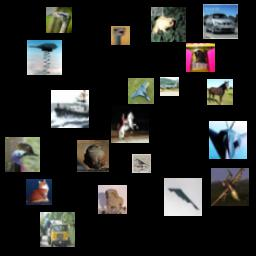airplane: (209, 121, 247, 159), (164, 178, 202, 216), (211, 168, 249, 206), (27, 40, 62, 75), (128, 78, 154, 104), (160, 77, 179, 96)
automobile: (203, 4, 238, 39)
bird: (5, 137, 40, 172), (77, 140, 109, 172), (46, 7, 72, 33), (111, 26, 130, 45), (132, 154, 151, 173)
cat: (186, 43, 215, 72), (26, 179, 52, 205)
dog: (98, 185, 127, 214)
frog: (151, 7, 186, 42)
ship: (51, 90, 89, 128)
truck: (40, 212, 75, 247)
